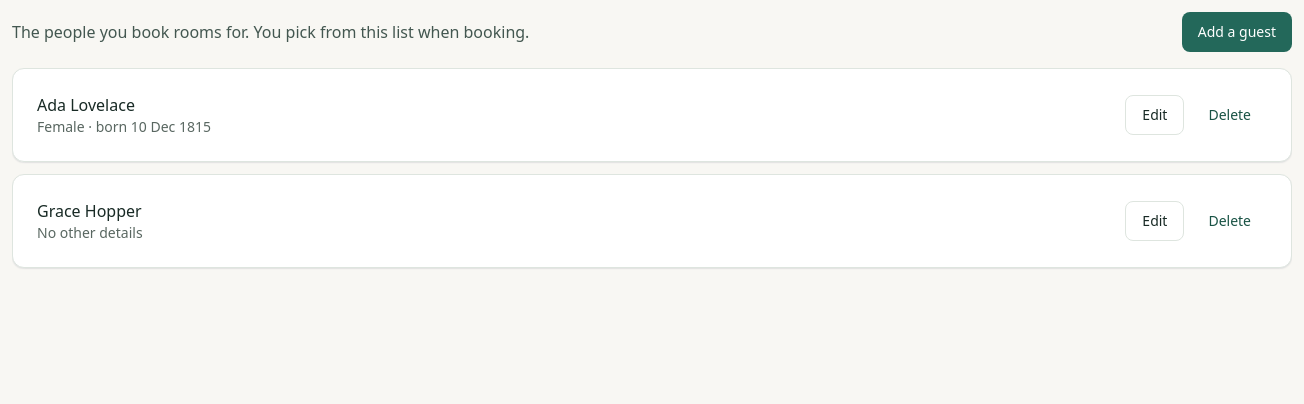
Test: saved guests › asks before deleting, and deletes on confirmation
This screenshot has width=1304, height=404.
Step 1. Click the button with aria-label "Delete Grace Hopper" → x=1230, y=221, box [1192,201,1267,241]
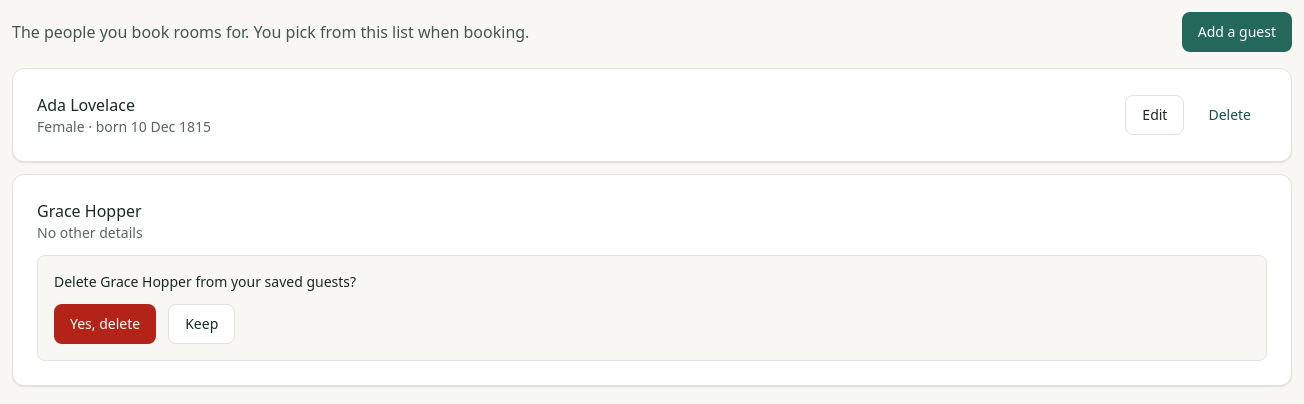
expect the element named "Confirm deleting Grace Hopper" is shown: met, box [37,255,1267,361]
Step 2. Click the button "Yes, delete" → x=105, y=324, box [54,304,156,344]
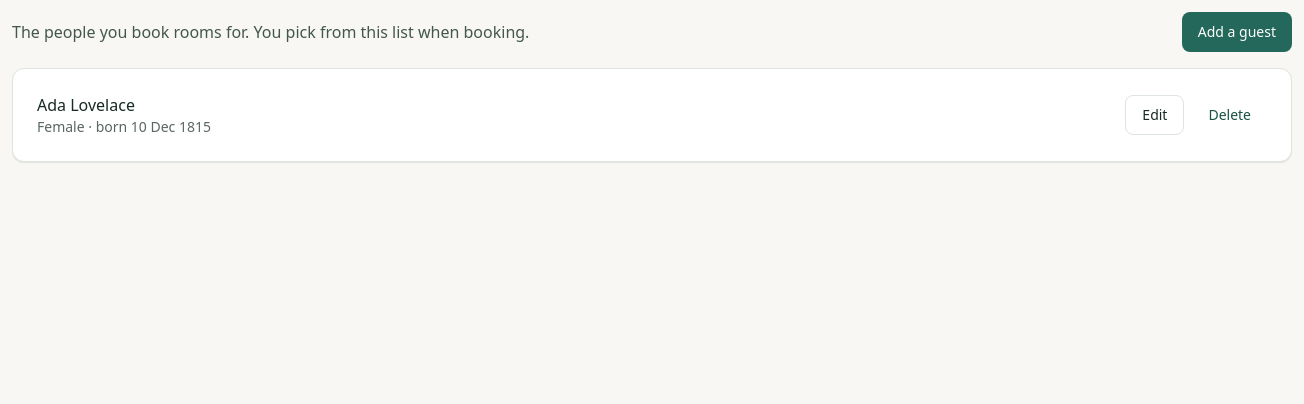
expect the text "Ada Lovelace" is shown: met, box [37,94,135,116]
expect the text "Grace Hopper" is gone: met
